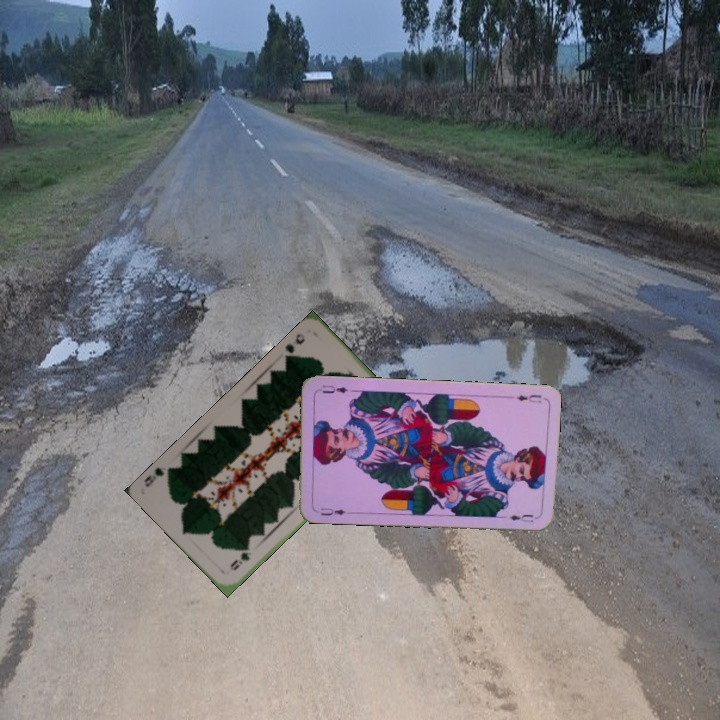EU: (513, 390, 544, 406), (317, 504, 352, 518)
G9: (281, 329, 308, 362), (226, 544, 254, 573)
